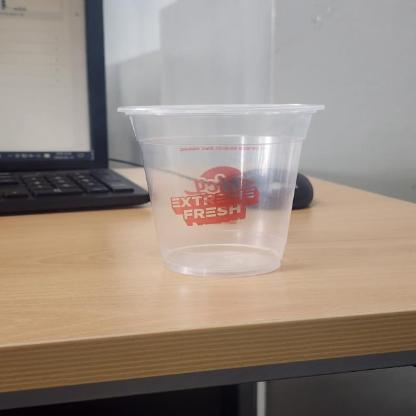Plastic Cup: (117, 103, 325, 277)
